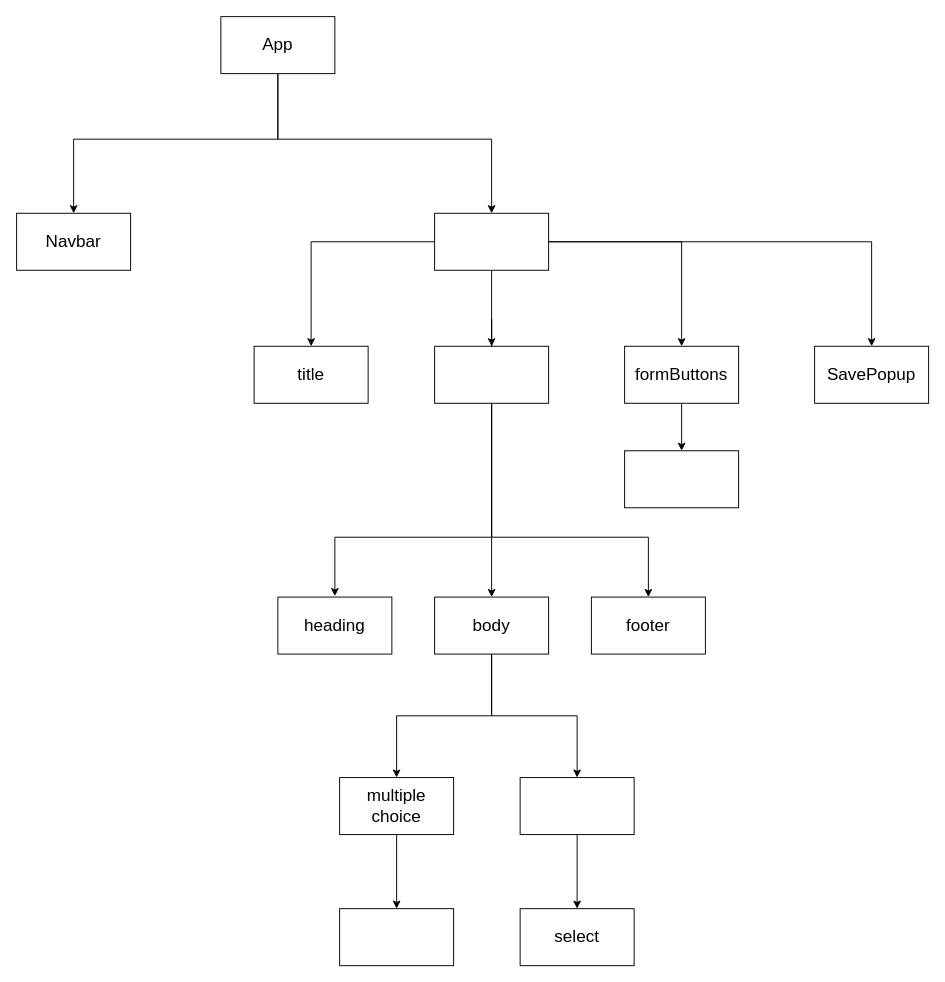
Some shapes in this 945 by 982 pixel diagram are drawn without their labels. Here are the shapes that lost their labels. From the top down, the box of each, then its label:
(434, 212, 549, 270): Form
(434, 345, 549, 403): formSegment
(624, 450, 739, 508): formButton
(519, 777, 634, 835): multi select
(339, 908, 454, 966): choice
